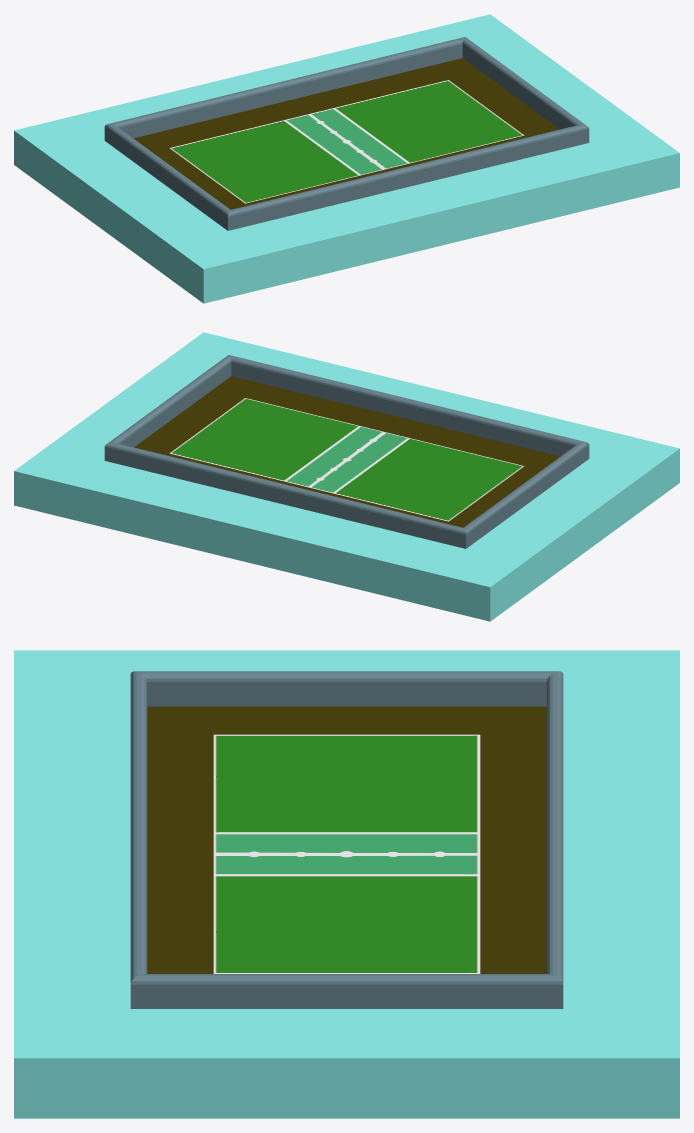
File: DodgeBallCourt.fbx
3 renders of one model, top to bottom at view 1: azimuth 30°, elevation 25°; view 2: azimuth 150°, elevation 25°; view 3: azimuth 270°, elevation 25°, orthographic. The views are drawn at different scales.
Visible parts, largest first — view 1: DodgeBallCourt; view 2: DodgeBallCourt; view 3: DodgeBallCourt.
Boxes of the visible parts, x1,y1,x2,y2 form: DodgeBallCourt: (14,14,679,303); DodgeBallCourt: (14,332,679,621); DodgeBallCourt: (14,650,679,1118).
Bounding box in the file's own units: 2900 × 300 × 2000.
1 material, 1 textured.
